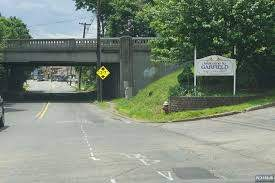bridge: (1, 37, 153, 67)
